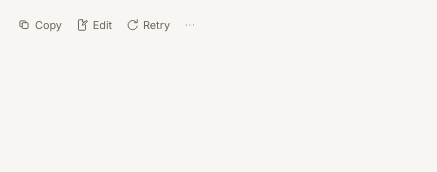
Test: MessageActions › says Rewind is reading the checkpoint and cannot be pressed twice
This screenshot has width=437, height=172.
Click the button named "More actions for this message" at (190, 25), box [178,14,203,36]
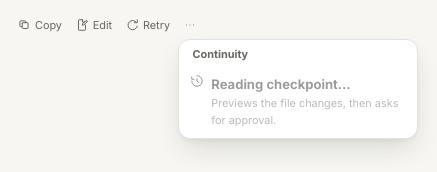
Now the menu item "Reading checkpoint…" is disabled, box [183,69,413,134]
